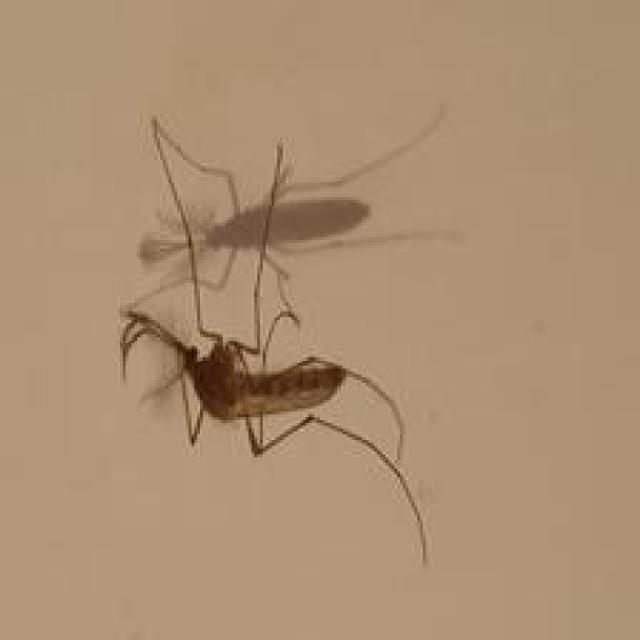Culex: (116, 103, 456, 566)
